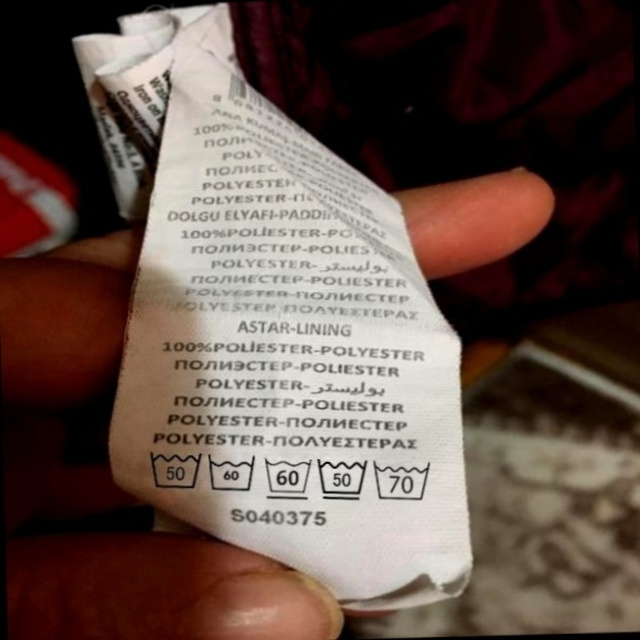50C: (143, 443, 206, 495), (315, 454, 372, 504)
60C: (262, 452, 317, 502), (205, 450, 261, 497)
70C: (373, 457, 438, 504)
